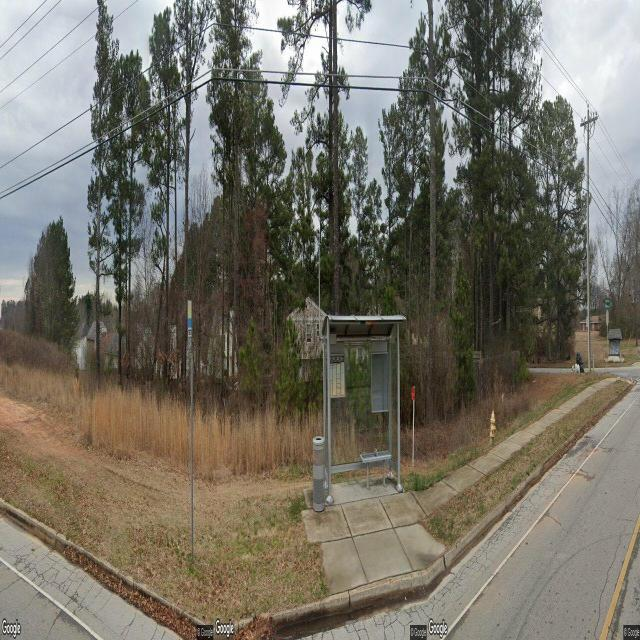seating: (359, 449, 392, 486)
shelter: (320, 312, 408, 501)
trash_can: (312, 434, 325, 514)
